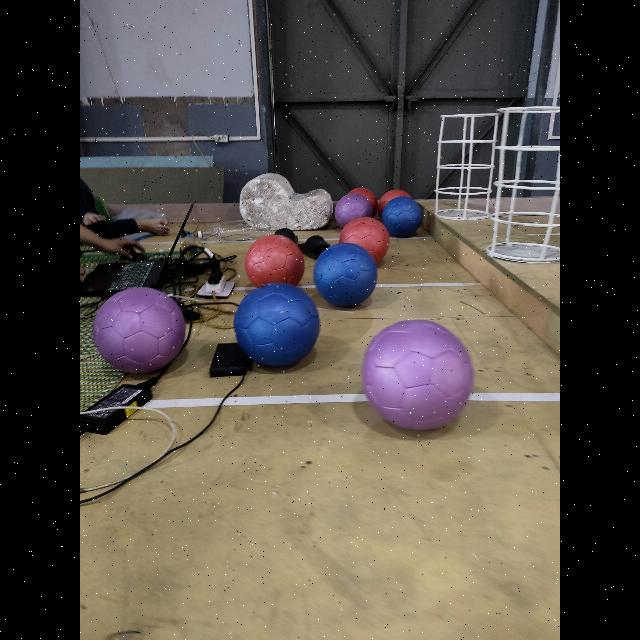B: (234, 284, 320, 366), (314, 243, 376, 307), (382, 196, 422, 237)
P: (362, 320, 473, 428), (93, 287, 185, 373), (334, 194, 372, 226)
R: (246, 235, 304, 287), (340, 216, 390, 262), (378, 190, 410, 214), (349, 186, 376, 214)
S: (486, 104, 560, 272), (432, 109, 514, 227)
